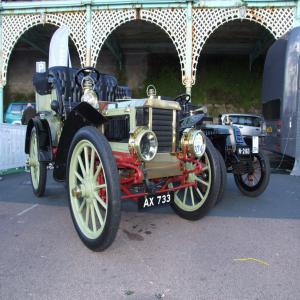Vehicle-registration-plate: (139, 195, 174, 208), (238, 147, 251, 156)
